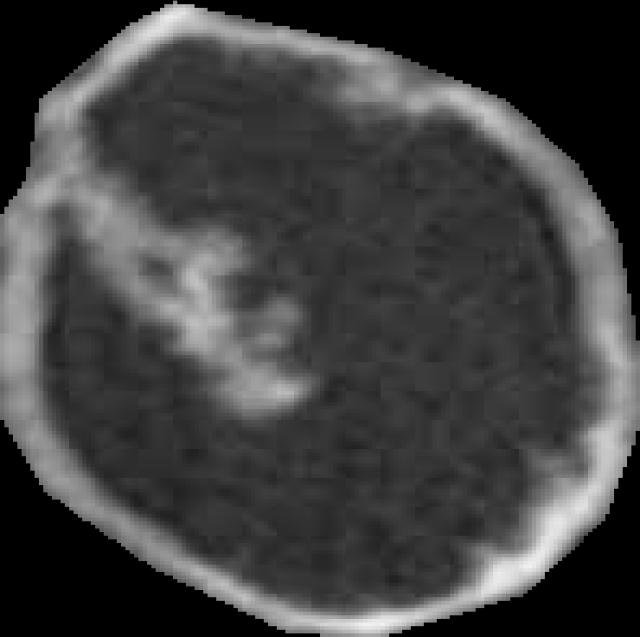tumor_less_chance: (0, 1, 640, 637)
